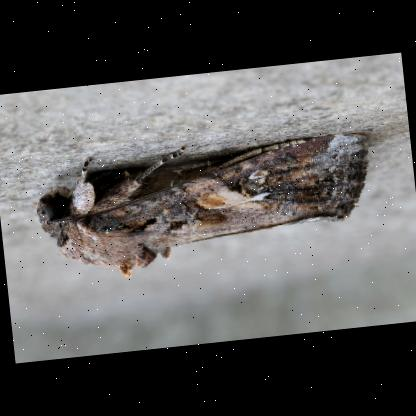Fall Armyworm Moth: (29, 124, 386, 290)
